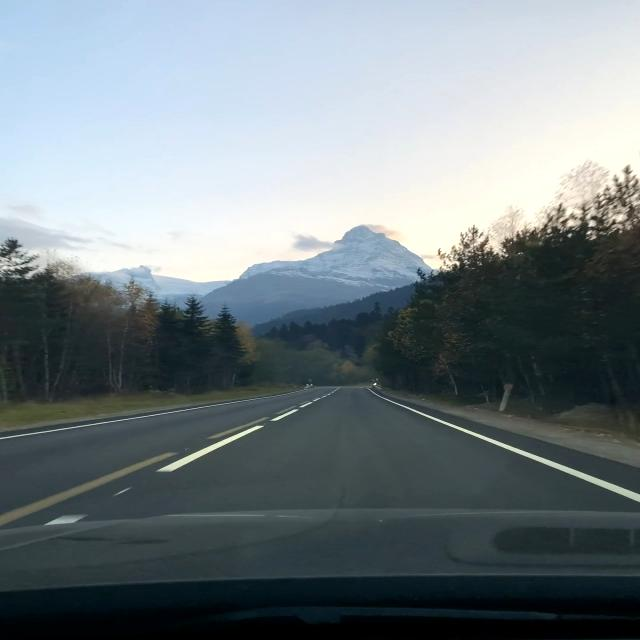lane: (369, 389, 640, 502), (158, 425, 262, 472), (269, 409, 298, 421), (300, 402, 310, 408)
road: (2, 387, 638, 640)
